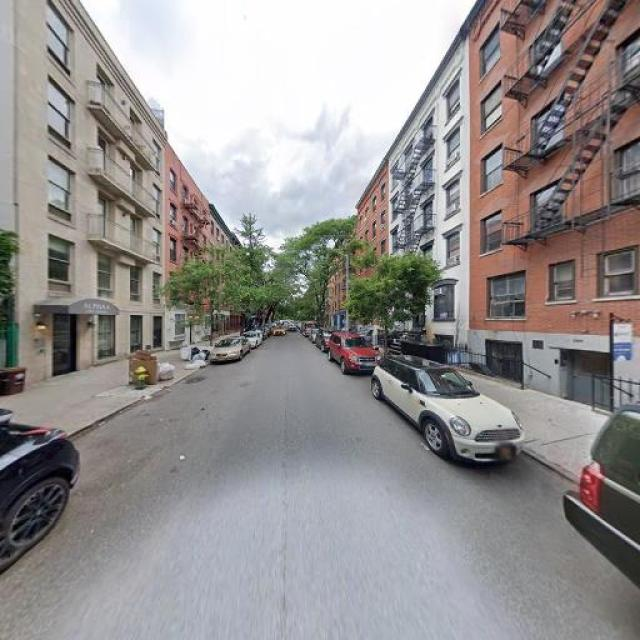Building: (474, 1, 640, 409), (22, 1, 162, 387), (390, 22, 470, 367)
